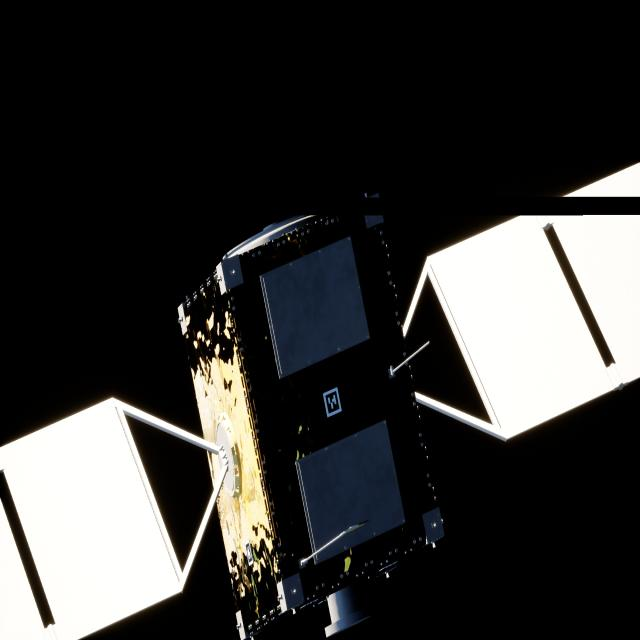medium_debris: (0, 195, 640, 640)
